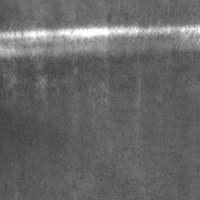scratches: (0, 22, 199, 55)
